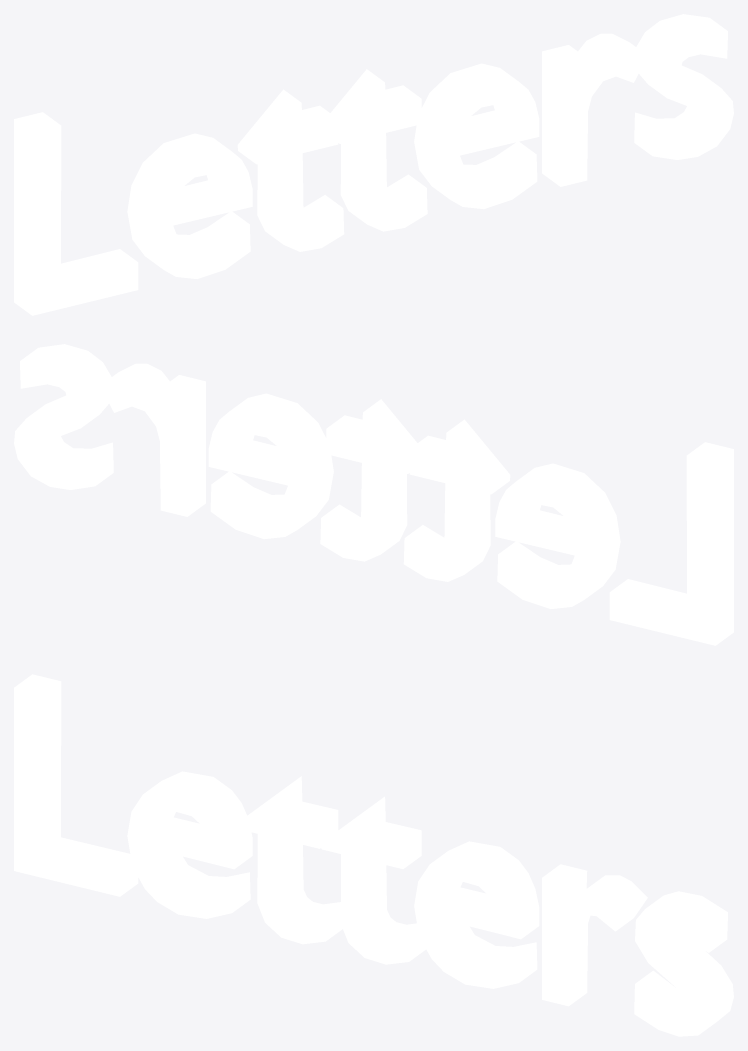
The model's file is textLetters.glb.
The picture shows the model from 3 angles, top to bottom: view 1: azimuth 30°, elevation 25°; view 2: azimuth 150°, elevation 25°; view 3: azimuth 330°, elevation 25°; orthographic projection.
Visible parts, largest first — view 1: TextLetters; view 2: TextLetters; view 3: TextLetters.
Boxes of the visible parts, bbox=[...] form: TextLetters: bbox=[14, 14, 733, 315]; TextLetters: bbox=[14, 344, 733, 645]; TextLetters: bbox=[14, 674, 733, 1036].
Size of the model in its own units: 1.68 by 0.4272 by 0.0838.
1 material, 1 textured.
